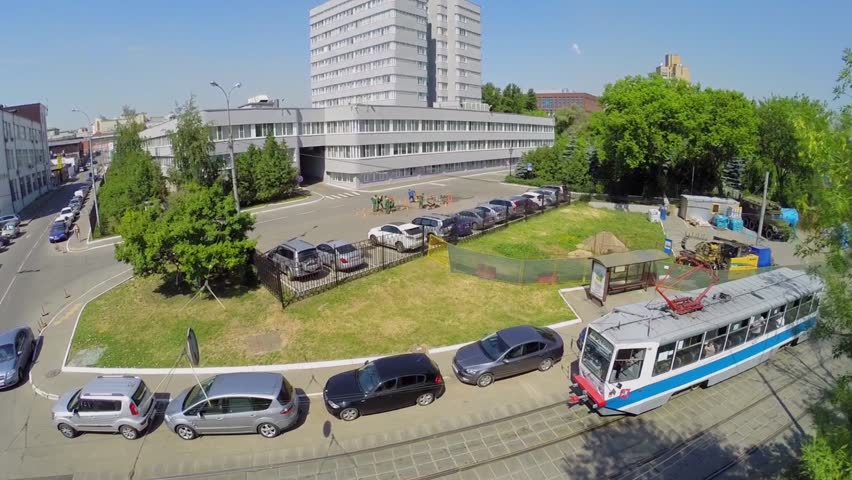car: (163, 371, 300, 440), (323, 351, 445, 422), (50, 375, 156, 442), (452, 323, 563, 386), (1, 325, 37, 390)
